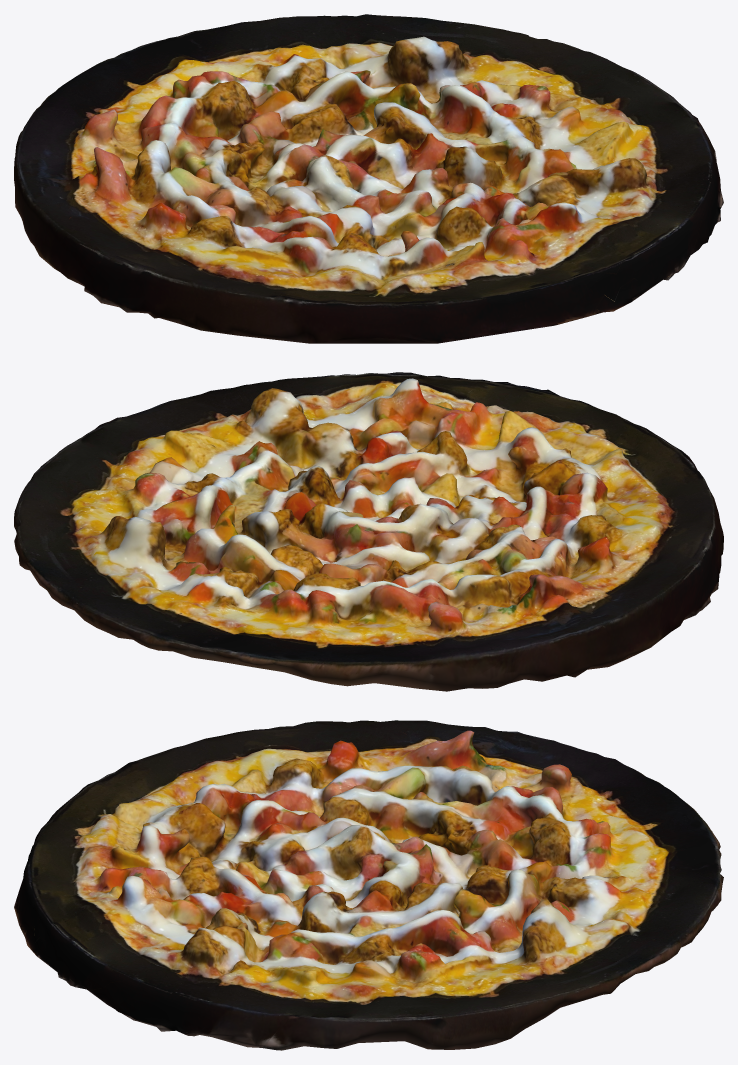
Rendered from Tostada(Favorites_Category)_1757010402694.glb.
The picture shows the model from 3 angles, top to bottom: view 1: azimuth 30°, elevation 25°; view 2: azimuth 150°, elevation 25°; view 3: azimuth 270°, elevation 25°; orthographic projection.
Parts seen in each view (by area): view 1: empty_3; view 2: empty_3; view 3: empty_3.
Part boxes in pixels (x1,y1,x2,y2): empty_3: [14, 14, 723, 343]; empty_3: [14, 372, 723, 691]; empty_3: [14, 720, 723, 1050].
Bounding box in the file's own units: 0.2748 × 0.0334 × 0.2767.
1 material, 1 textured.
